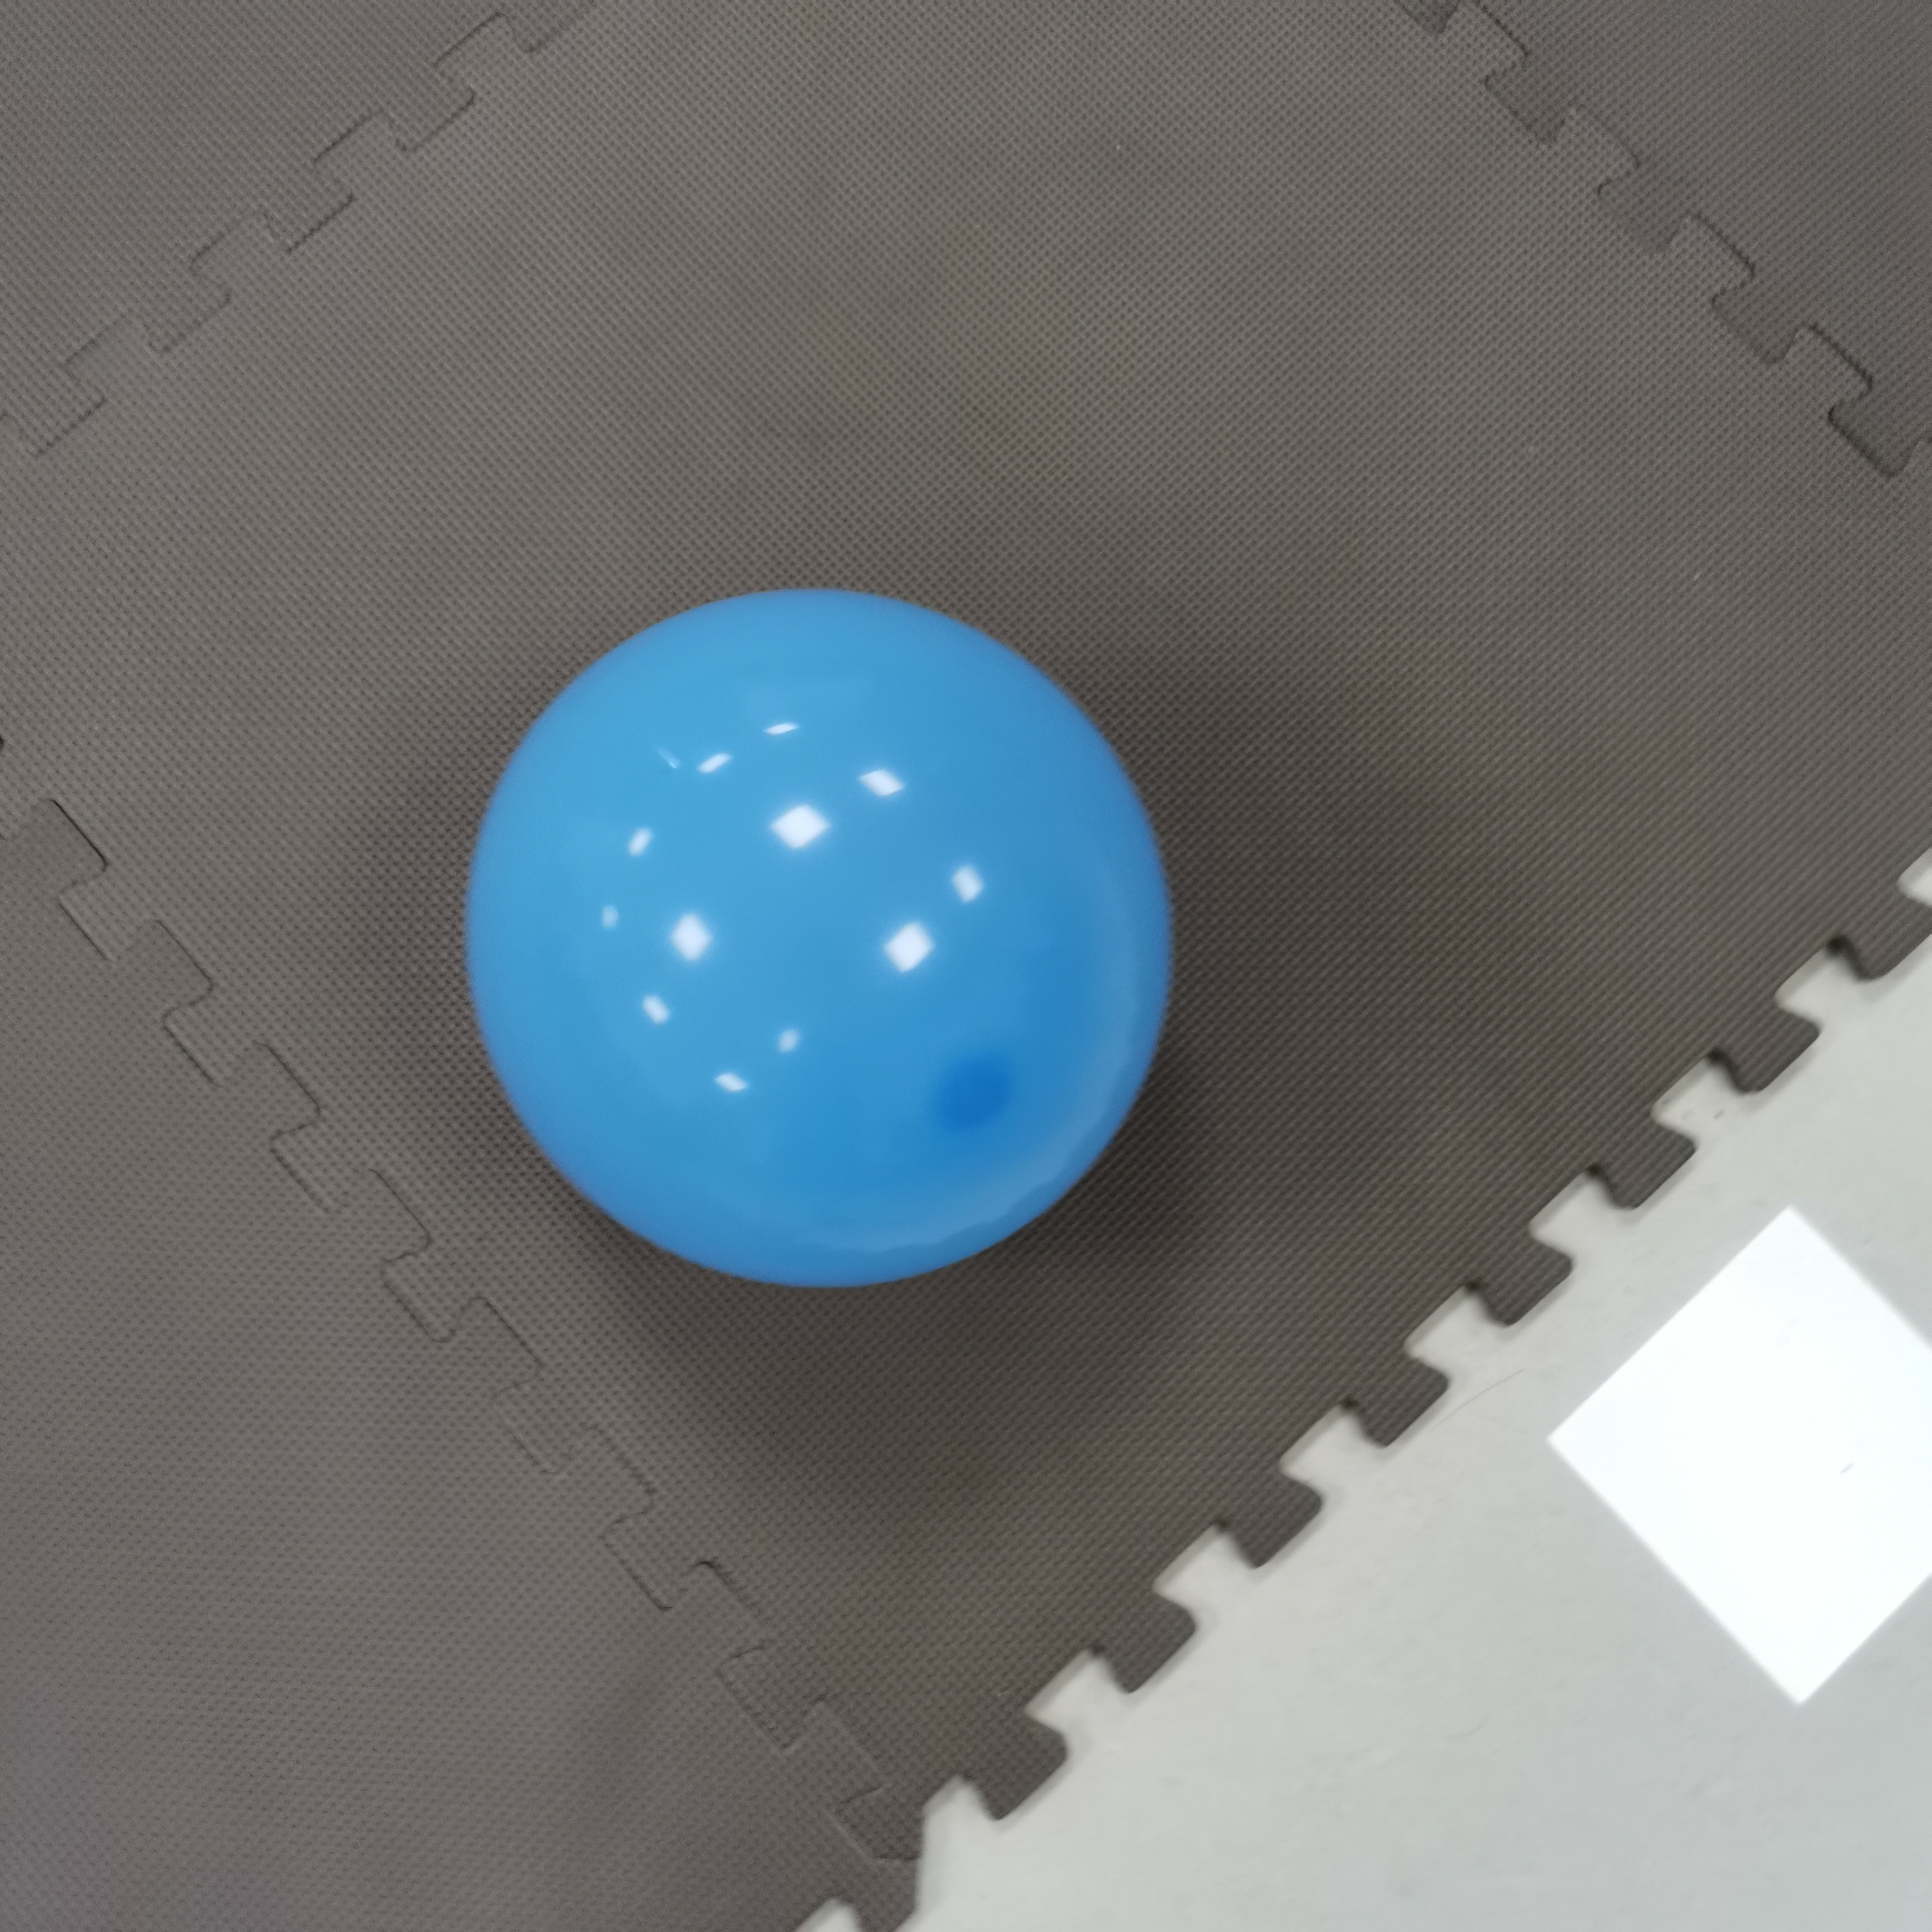balloon: (467, 586, 1180, 1299)
